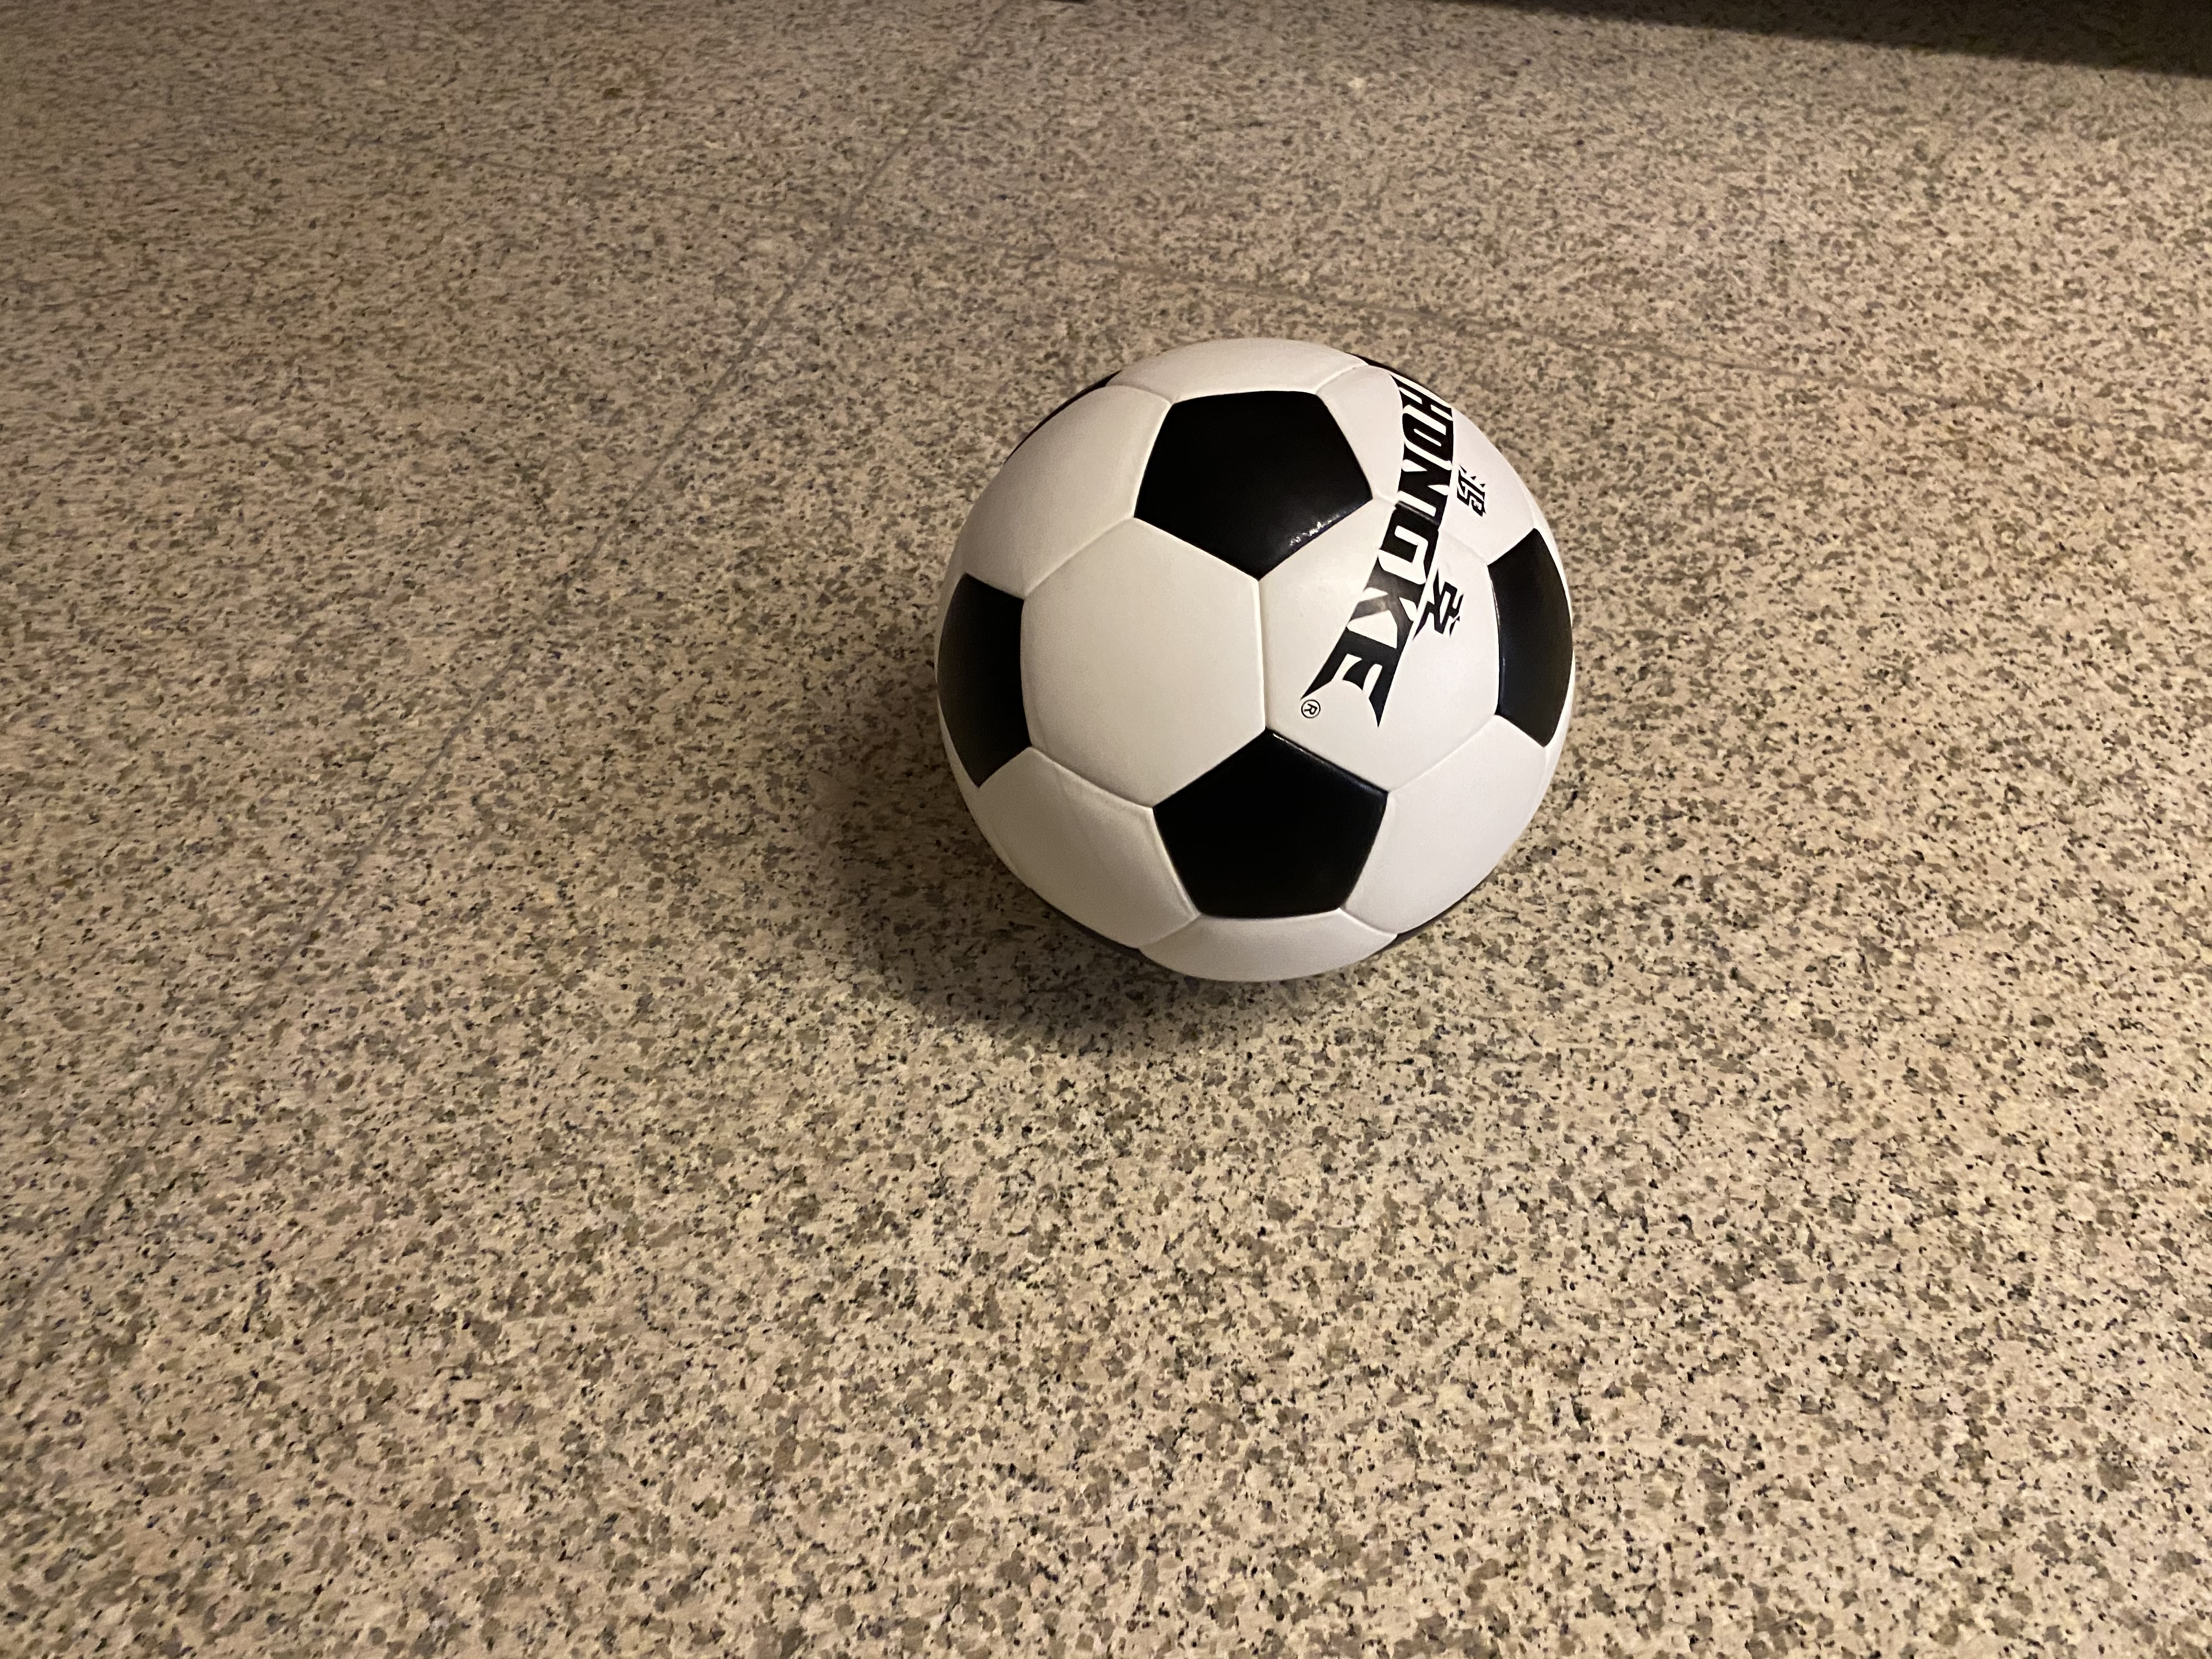football: (944, 362, 1575, 971)
